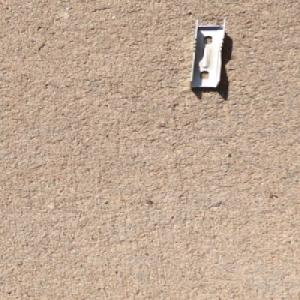ClampPart: (186, 17, 229, 91)
